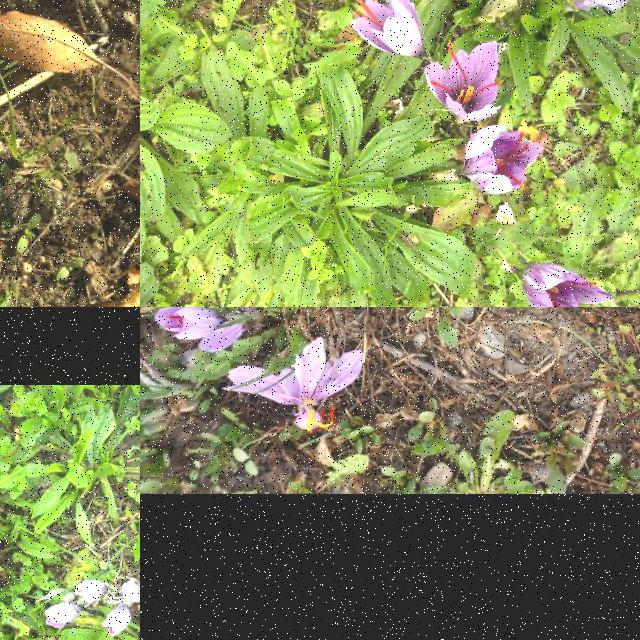flower: (424, 40, 502, 121), (462, 126, 544, 194), (351, 0, 428, 60), (521, 262, 613, 307), (154, 307, 225, 341), (45, 603, 81, 629), (102, 608, 132, 638)
